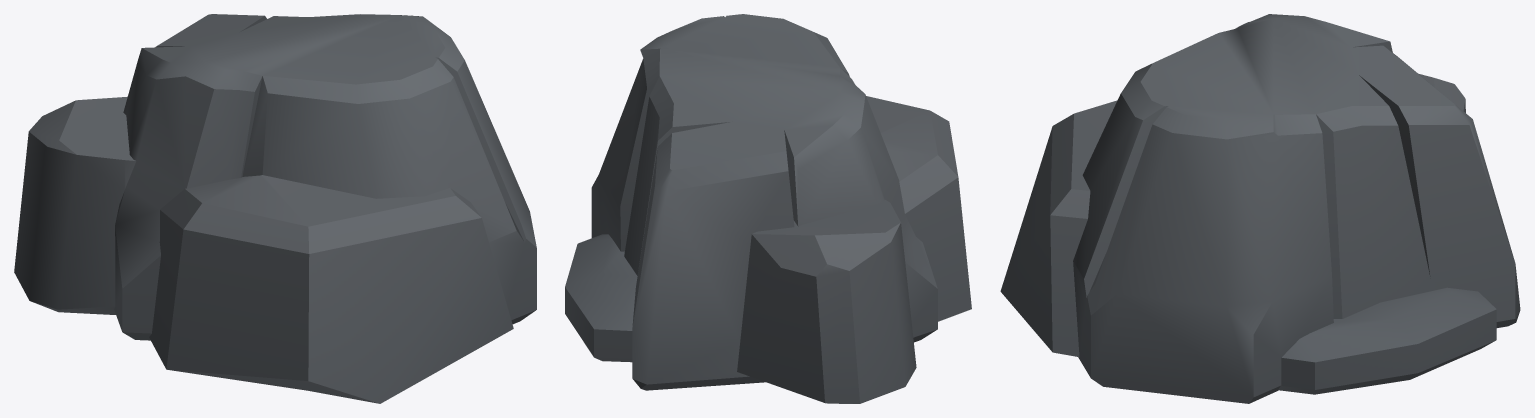
The model's file is Rock_12.fbx.
3 renders of one model, left to right at view 1: azimuth 30°, elevation 25°; view 2: azimuth 150°, elevation 25°; view 3: azimuth 270°, elevation 25°, orthographic. The views are drawn at different scales.
Parts seen in each view (by area): view 1: Rock_12; view 2: Rock_12; view 3: Rock_12.
Part boxes in pixels (x1,y1,x2,y2): Rock_12: (14,14,536,403); Rock_12: (565,14,971,403); Rock_12: (1000,14,1520,403).
Size of the model in its own units: 288 by 177 by 320.
